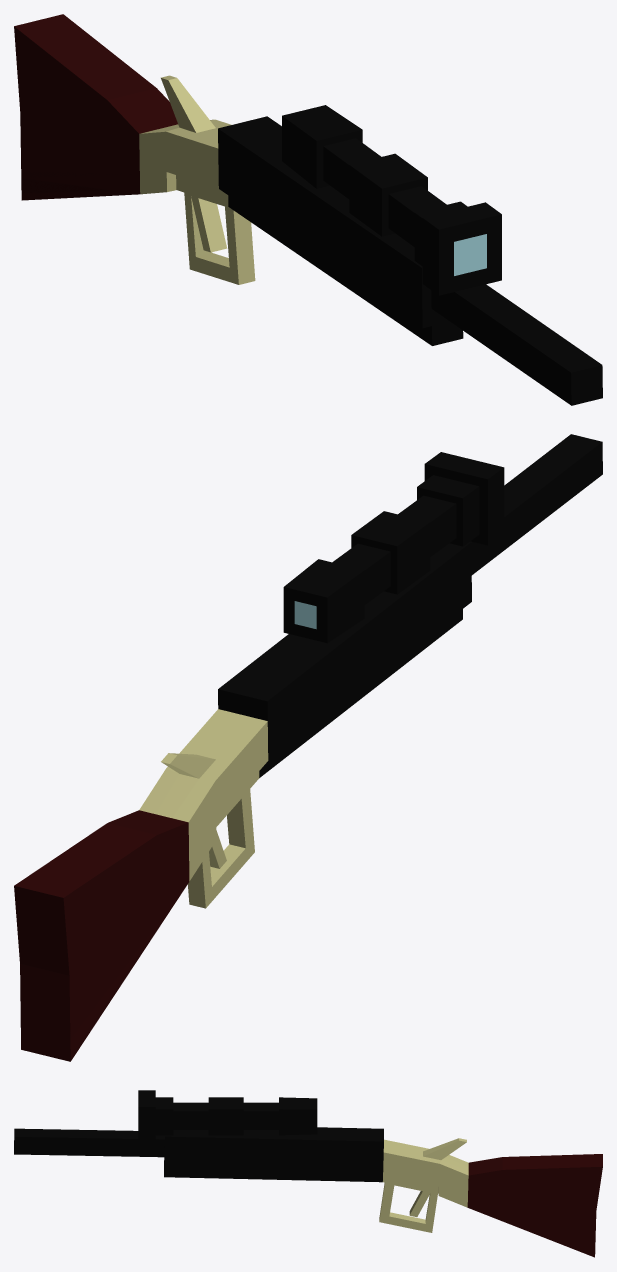
Rendered from sniper_rifle.glb.
3 renders of one model, top to bottom at view 1: azimuth 30°, elevation 25°; view 2: azimuth 150°, elevation 25°; view 3: azimuth 270°, elevation 25°, orthographic. The views are drawn at different scales.
Visible parts, largest first — view 1: big_gun, Cube; view 2: big_gun, Cube; view 3: big_gun, Cube.
Part boxes in pixels (<box>): big_gun: <box>14,14,602,405</box>; Cube: <box>282,105,501,295</box>; big_gun: <box>14,434,602,1061</box>; Cube: <box>283,452,504,643</box>; big_gun: <box>14,1127,602,1257</box>; Cube: <box>138,1090,317,1142</box>.
Size of the model in its own units: 0.1016 by 0.4361 by 1.53.
